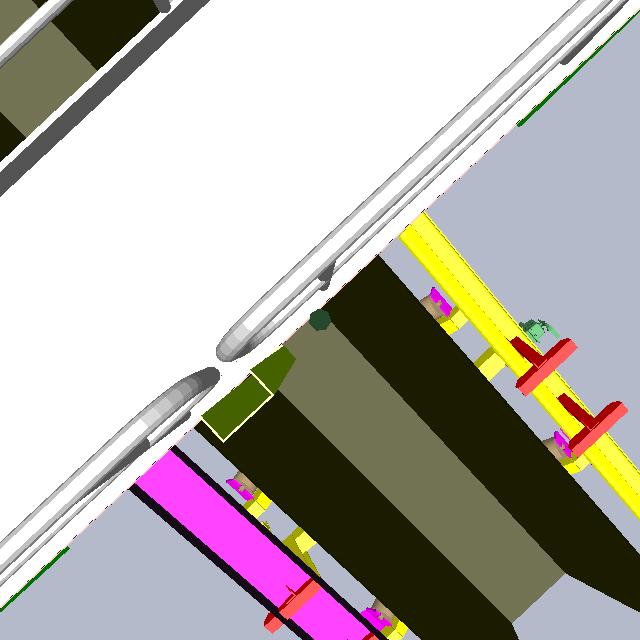Poste: (306, 306, 335, 341)
Soporte: (187, 321, 294, 461)
